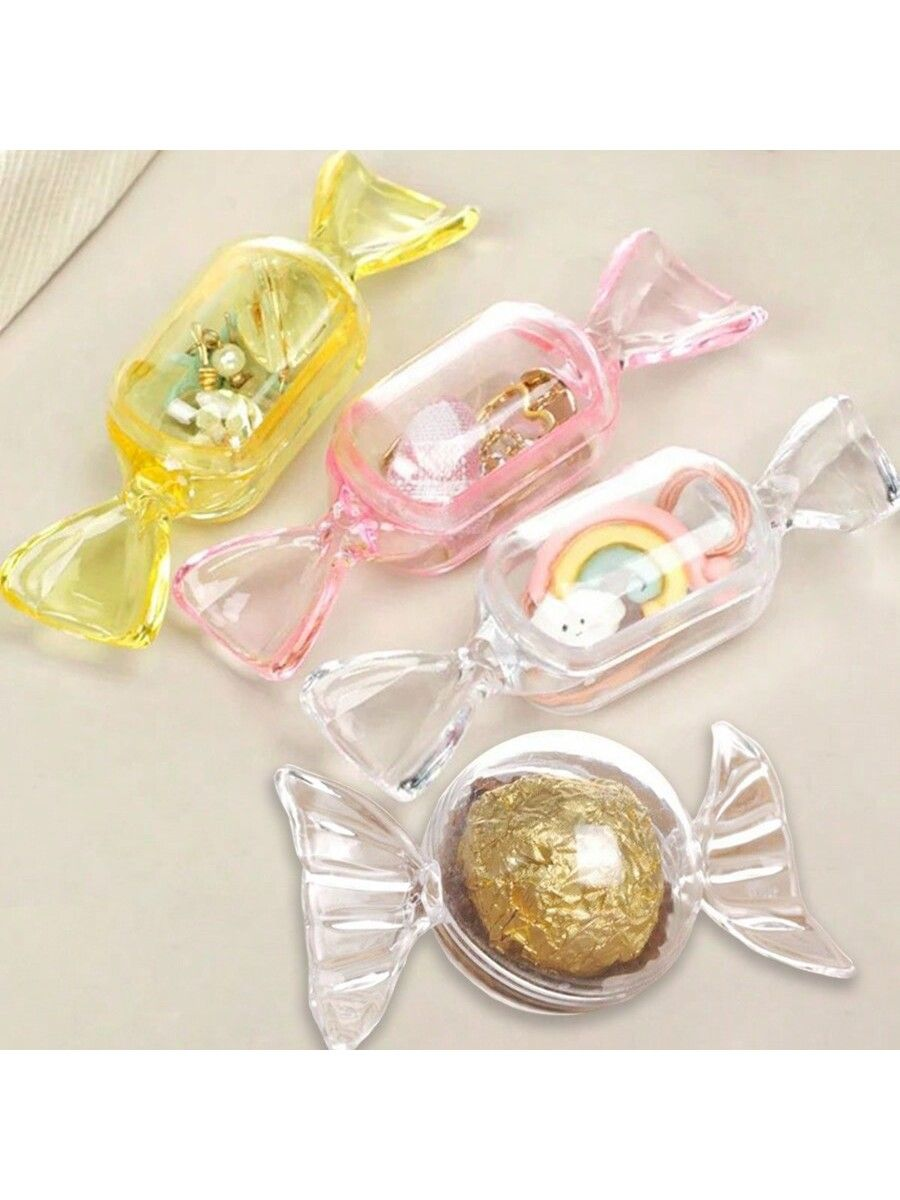Chaise: (392, 205, 679, 346)
